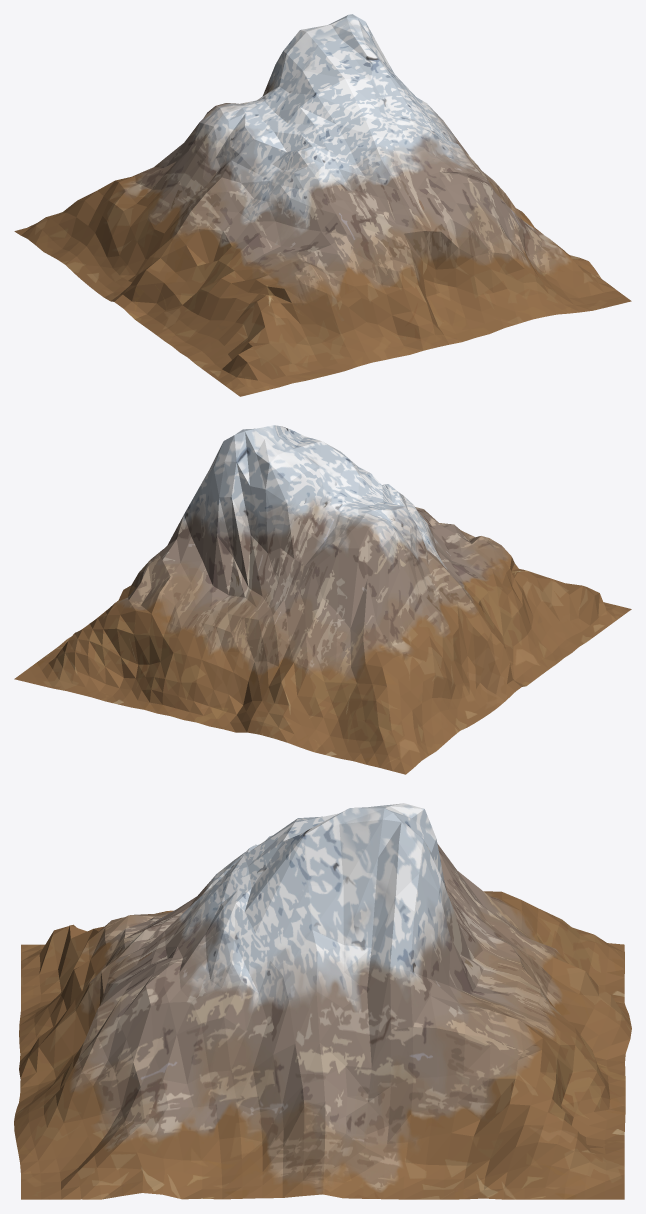
Rendered from m_mountain01.fbx.
3 renders of one model, top to bottom at view 1: azimuth 30°, elevation 25°; view 2: azimuth 150°, elevation 25°; view 3: azimuth 270°, elevation 25°, orthographic. The views are drawn at different scales.
Parts seen in each view (by area): view 1: pPlane48; view 2: pPlane48; view 3: pPlane48.
Boxes of the visible parts, x1,y1,x2,y2 form: pPlane48: (14, 14, 631, 396); pPlane48: (14, 425, 631, 774); pPlane48: (14, 803, 631, 1199).
Bounding box in the file's own units: 1455 × 765 × 1458.
Materials: 1 (1 with a texture image).
